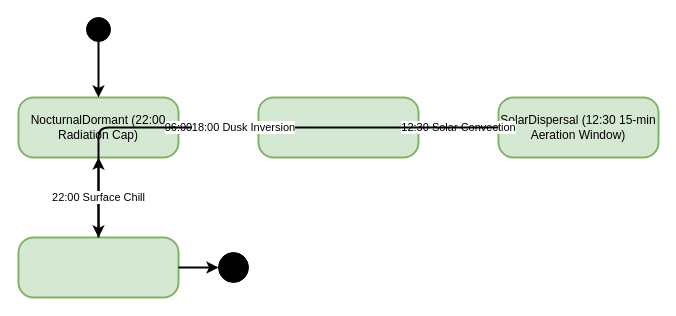
Some shapes in this 676 by 316 pixel diagram are drawn without their labels. Here are the shapes that lost their labels. From the top down, the centre of each, then its label:
At (338,127): "MorningTrap (06:00 Critical Hazard 2.00-2.20x)".
At (98,267): "EveningTrap (18:00 Peak Condensation 1.95x)".
